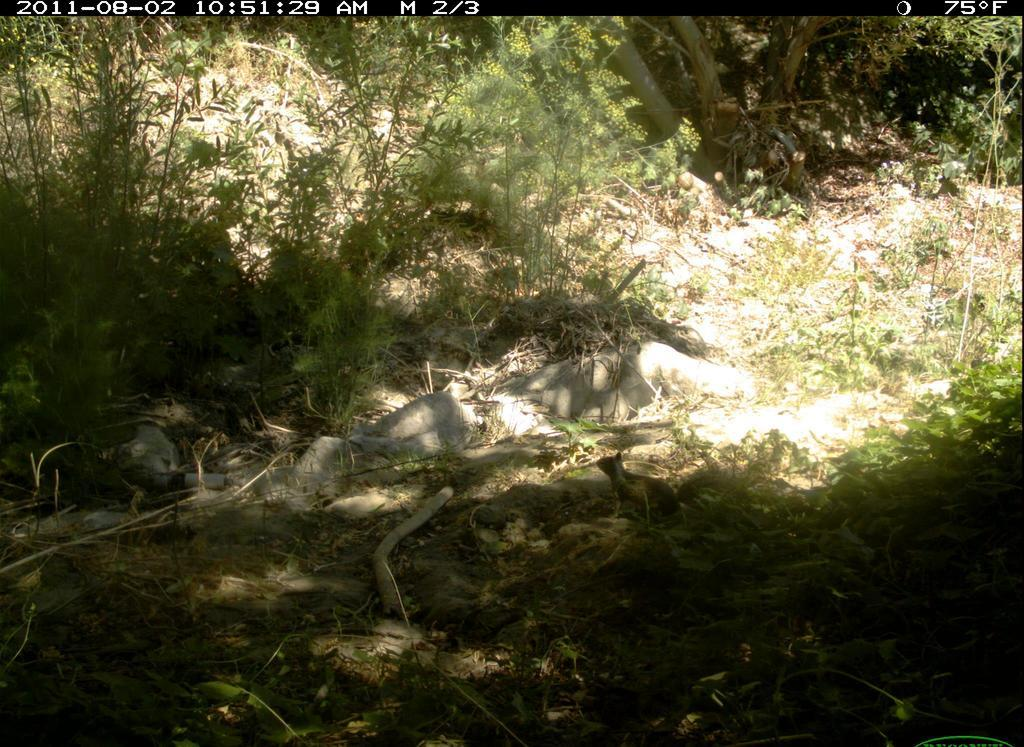squirrel: (594, 449, 731, 523)
